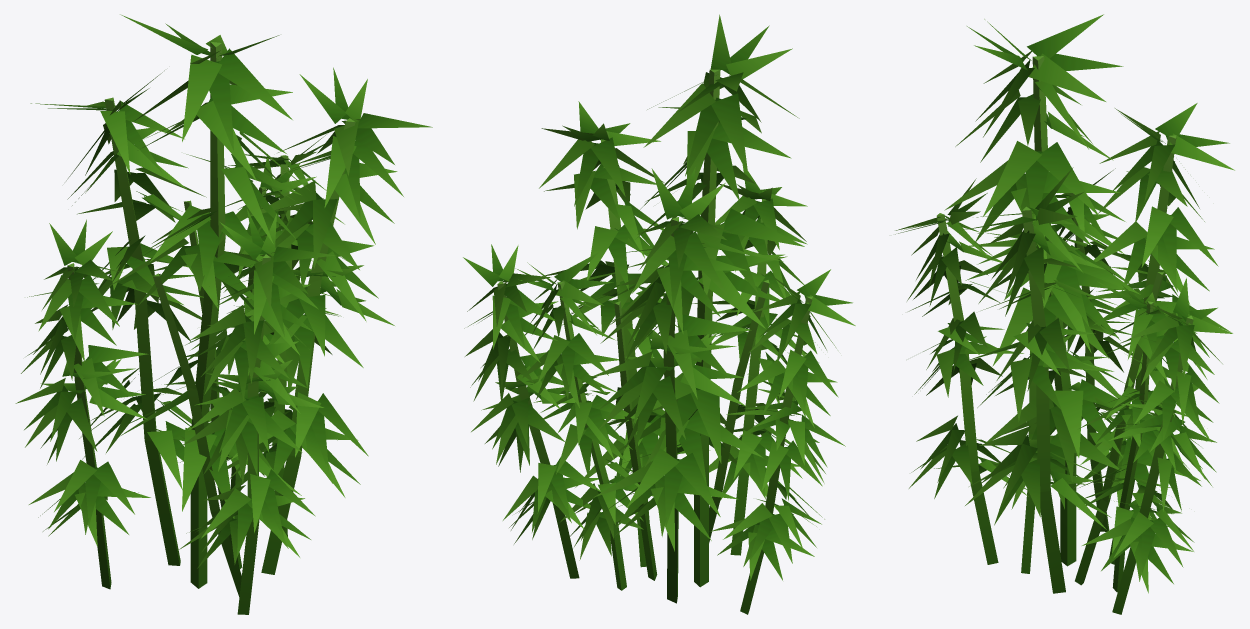
File: SM_Bamboo_01.fbx
3 renders of one model, left to right at view 1: azimuth 30°, elevation 25°; view 2: azimuth 150°, elevation 25°; view 3: azimuth 270°, elevation 25°, orthographic. The views are drawn at different scales.
Visible parts, largest first — view 1: SM_Bamboo_01; view 2: SM_Bamboo_01; view 3: SM_Bamboo_01.
Boxes of the visible parts, x1=… form: SM_Bamboo_01: x1=15, y1=14, x2=432, y2=614; SM_Bamboo_01: x1=463, y1=14, x2=855, y2=614; SM_Bamboo_01: x1=895, y1=14, x2=1234, y2=614.
Size of the model in its own units: 5.12 by 7.86 by 4.69.
